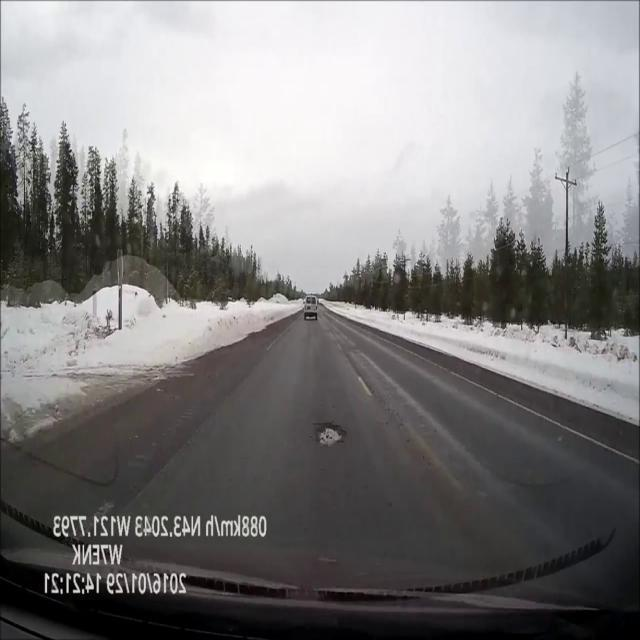pothole: (314, 420, 346, 447)
